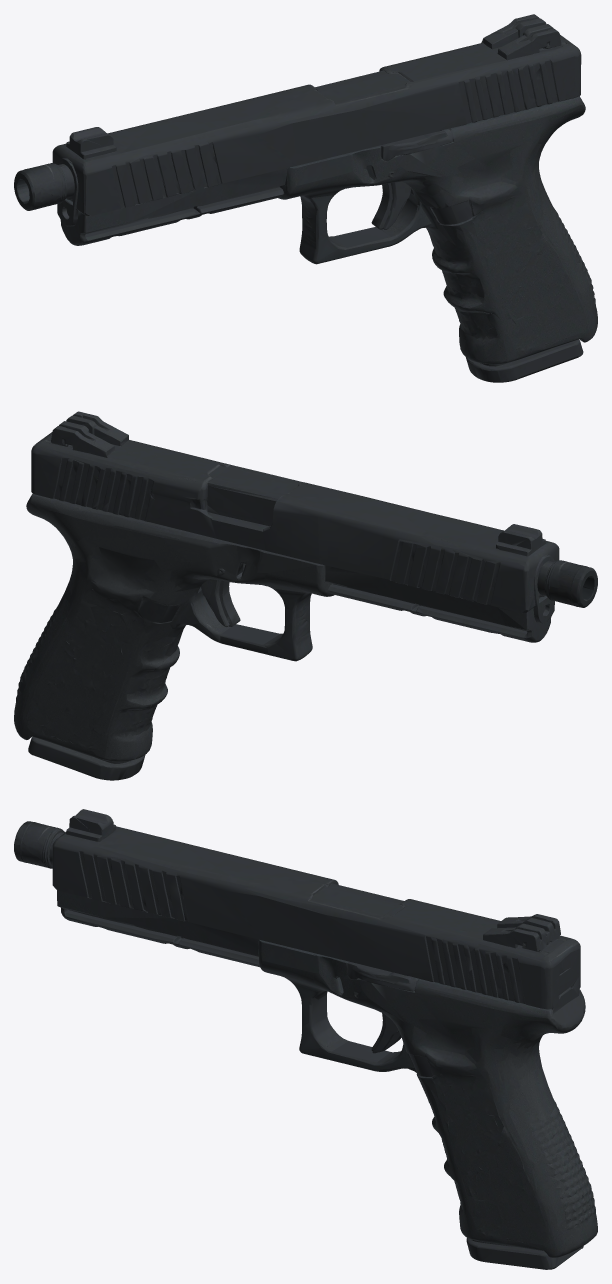
File: glock.glb
The picture shows the model from 3 angles, top to bottom: view 1: azimuth 30°, elevation 25°; view 2: azimuth 150°, elevation 25°; view 3: azimuth 330°, elevation 25°; orthographic projection.
Bounding box in the file's own units: 1.9 × 1.08 × 0.2562.
1 material, 1 textured.
